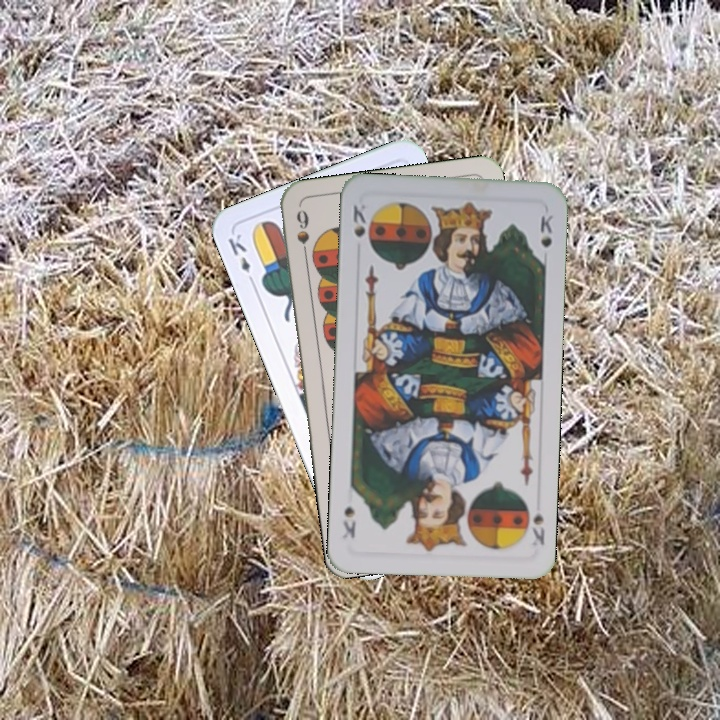EK: (223, 229, 258, 288)
S9: (292, 206, 312, 264)
SK: (349, 200, 371, 240), (527, 509, 548, 549)
